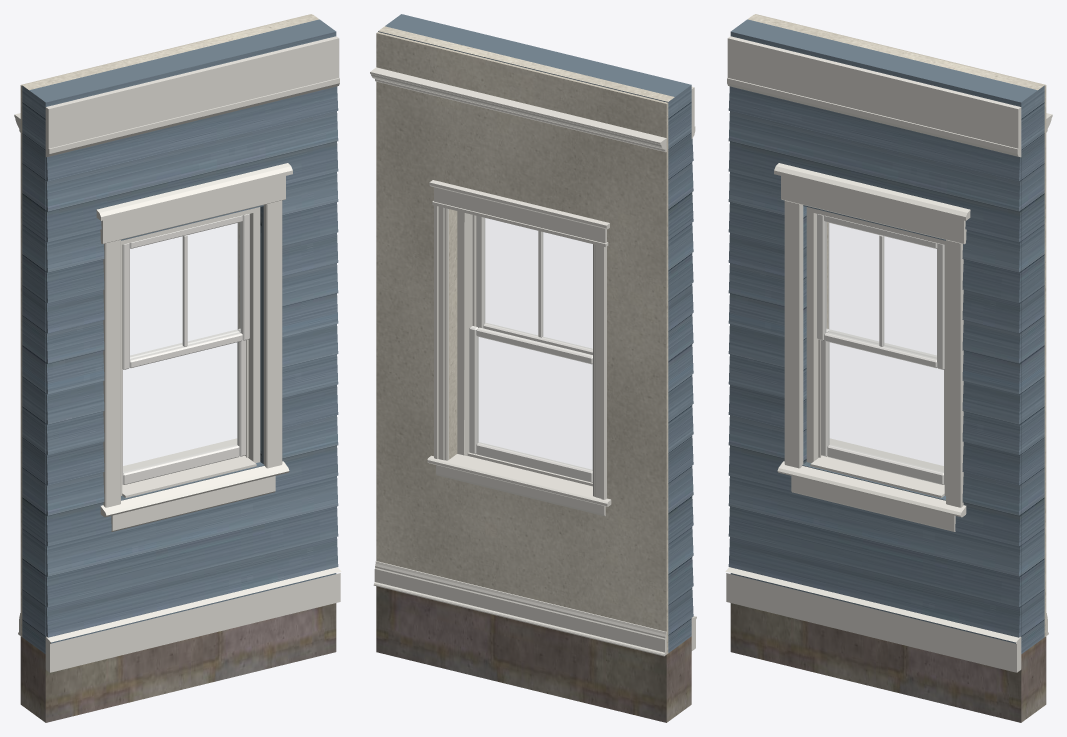
The model's file is wall_siding_window.glb.
3 views of the same model, side by side, from view 1: azimuth 30°, elevation 25°; view 2: azimuth 150°, elevation 25°; view 3: azimuth 330°, elevation 25° (orthographic).
Parts seen in each view (by area): view 1: wall_siding_window_siding, wall_siding_window_trim, wall_siding_window_stone, wall_siding_window_glass, folha_glass, wall_siding_window_sash, wall_siding_window_frame, wall_siding_window_plaster, folha_sash, molduras; view 2: wall_siding_window_plaster, molduras, wall_siding_window_stone, wall_siding_window_siding, folha_glass, wall_siding_window_glass, wall_siding_window_frame, folha_sash, wall_siding_window_sash; view 3: wall_siding_window_siding, wall_siding_window_trim, wall_siding_window_stone, wall_siding_window_glass, folha_glass, wall_siding_window_sash, wall_siding_window_frame, wall_siding_window_plaster, folha_sash, molduras.
Boxes of the visible parts, x1=… form: wall_siding_window_siding: x1=22, y1=19, x2=338, y2=653; wall_siding_window_trim: x1=45, y1=36, x2=341, y2=672; wall_siding_window_stone: x1=20, y1=603, x2=336, y2=722; wall_siding_window_glass: x1=130, y1=222, x2=241, y2=359; folha_glass: x1=123, y1=343, x2=237, y2=472; wall_siding_window_sash: x1=122, y1=213, x2=249, y2=369; wall_siding_window_frame: x1=121, y1=207, x2=260, y2=495; wall_siding_window_plaster: x1=20, y1=14, x2=319, y2=636; folha_sash: x1=122, y1=328, x2=245, y2=484; molduras: x1=14, y1=113, x2=238, y2=635; wall_siding_window_plaster: x1=376, y1=26, x2=674, y2=653; molduras: x1=370, y1=67, x2=666, y2=656; wall_siding_window_stone: x1=376, y1=586, x2=691, y2=722; wall_siding_window_siding: x1=378, y1=14, x2=693, y2=652; folha_glass: x1=478, y1=337, x2=591, y2=469; wall_siding_window_glass: x1=485, y1=218, x2=592, y2=348; wall_siding_window_frame: x1=457, y1=211, x2=592, y2=486; folha_sash: x1=469, y1=326, x2=592, y2=482; wall_siding_window_sash: x1=476, y1=216, x2=592, y2=354; wall_siding_window_siding: x1=728, y1=19, x2=1044, y2=653; wall_siding_window_trim: x1=725, y1=36, x2=1021, y2=672; wall_siding_window_stone: x1=730, y1=603, x2=1046, y2=722; wall_siding_window_glass: x1=825, y1=222, x2=936, y2=359; folha_glass: x1=829, y1=343, x2=943, y2=472; wall_siding_window_sash: x1=817, y1=213, x2=944, y2=369; wall_siding_window_frame: x1=806, y1=207, x2=945, y2=495; wall_siding_window_plaster: x1=747, y1=14, x2=1046, y2=636; folha_sash: x1=821, y1=328, x2=944, y2=484; molduras: x1=828, y1=113, x2=1052, y2=635.
Bounding box in the file's own units: 2 × 4.08 × 0.457.
Materials: 7 (3 with a texture image).
